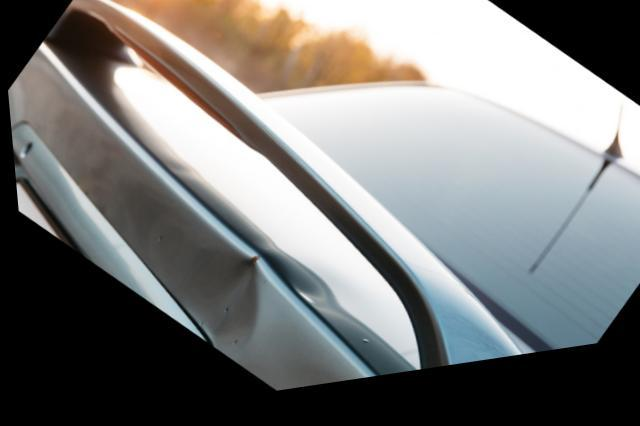dent: (162, 253, 252, 359)
